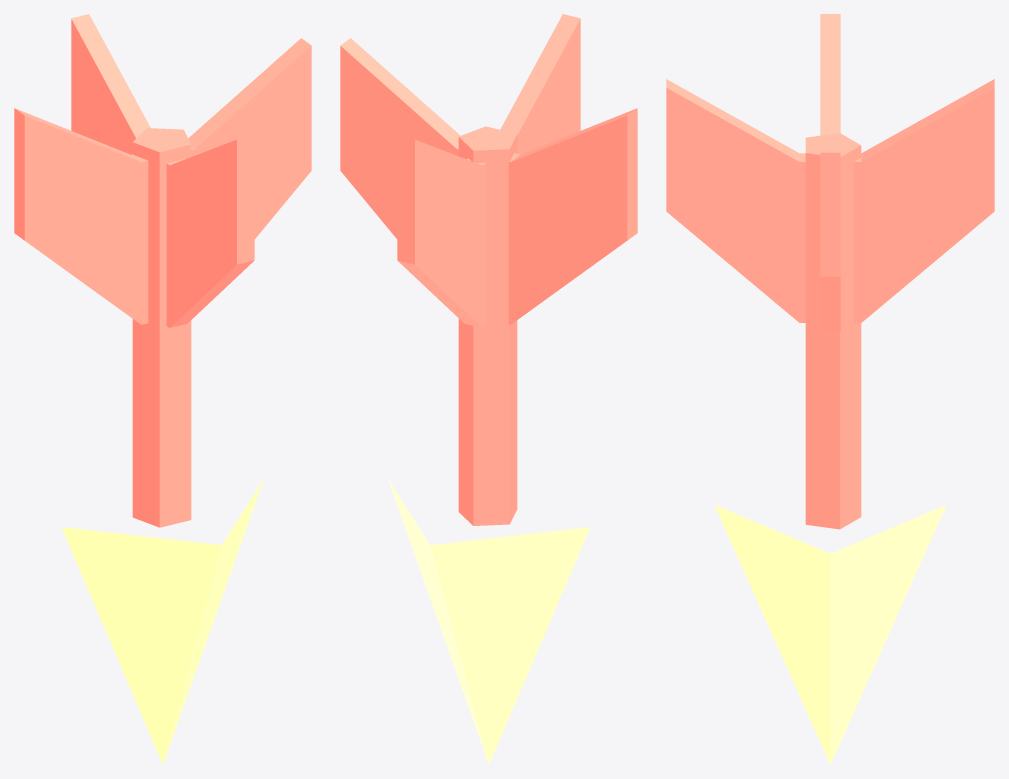
File: prop_vorgul_brand.glb
3 views of the same model, side by side, from view 1: azimuth 30°, elevation 25°; view 2: azimuth 150°, elevation 25°; view 3: azimuth 270°, elevation 25° (orthographic).
Visible parts, largest first — view 1: brand_arrow; view 2: brand_arrow; view 3: brand_arrow.
Part boxes in pixels (x1=…): brand_arrow: x1=14, y1=14, x2=311, y2=764; brand_arrow: x1=340, y1=14, x2=637, y2=764; brand_arrow: x1=666, y1=14, x2=994, y2=764.
Size of what is drawn, in the model's own units: 0.48 by 1.1 by 0.48.
